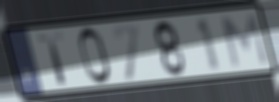0: (77, 26, 113, 86)
1: (195, 14, 221, 74)
7: (109, 21, 143, 82)
8: (152, 20, 186, 77)
M: (218, 10, 271, 69)
T: (35, 31, 70, 87)
